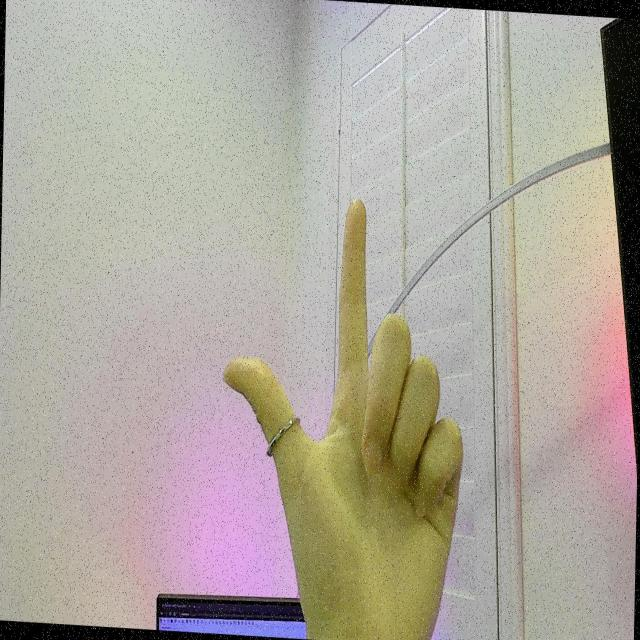L: (213, 169, 480, 640)
